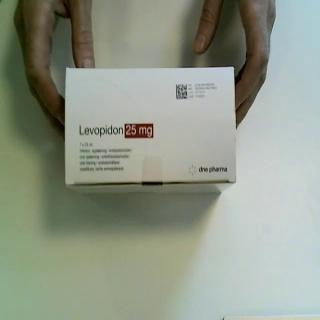levopidon25mg: (64, 66, 238, 198)
